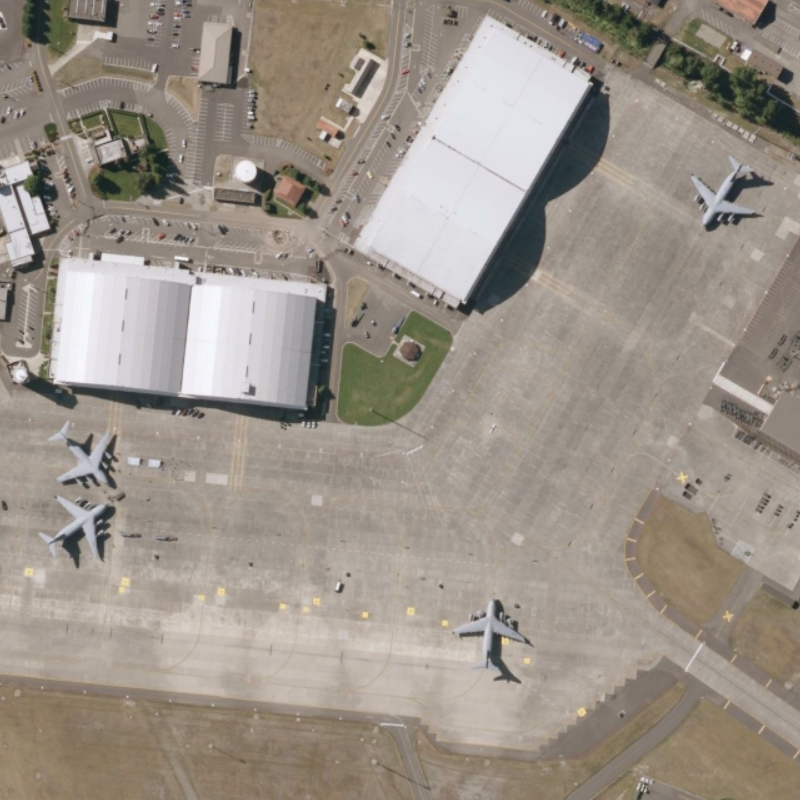A3: (447, 595, 531, 673), (687, 151, 763, 233), (34, 492, 111, 567), (44, 418, 123, 491)
